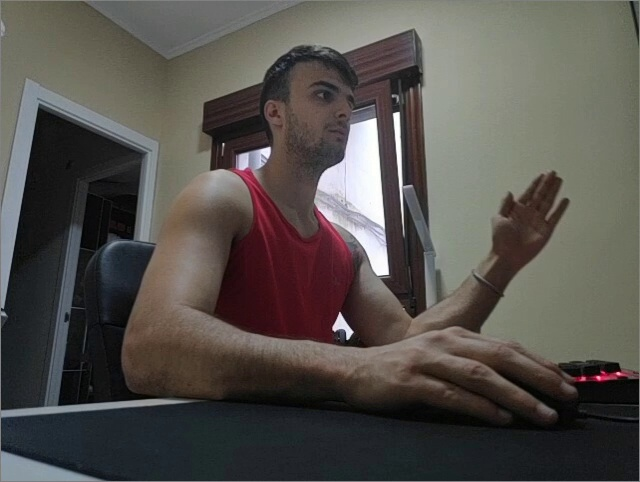Palm: (490, 168, 569, 266)
